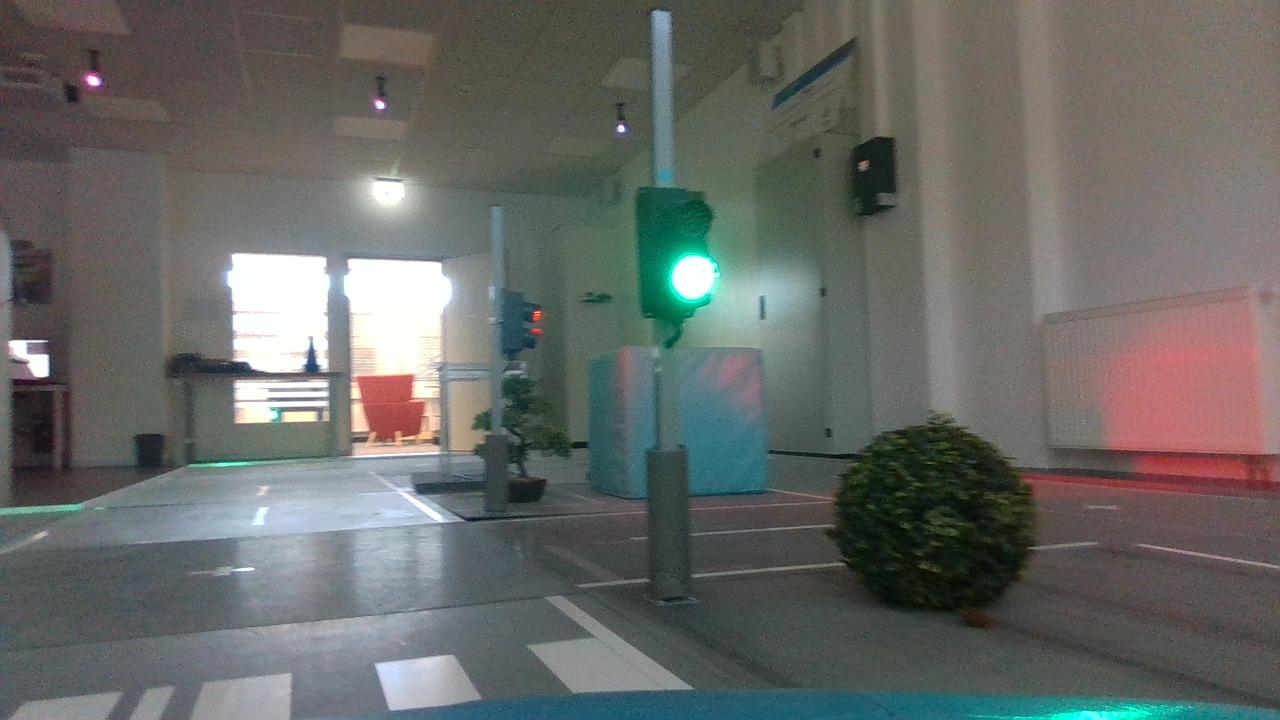traffic_light_green: (630, 177, 728, 330)
